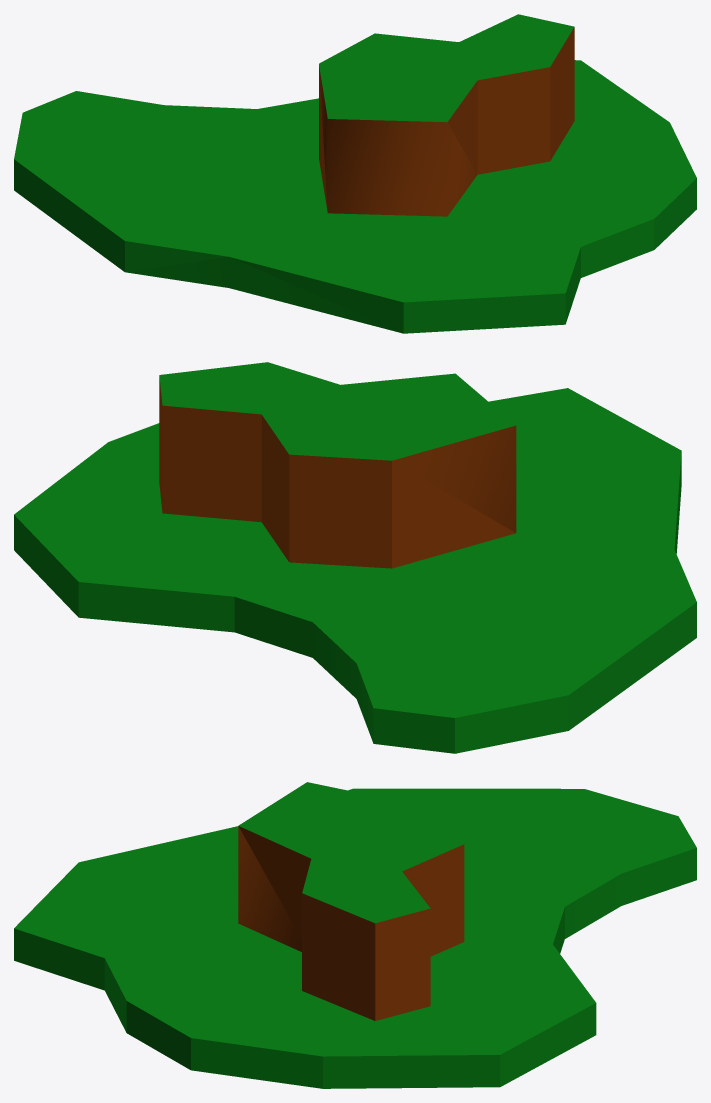
File: terrain.obj
3 views of the same model, one above another, from view 1: azimuth 30°, elevation 25°; view 2: azimuth 150°, elevation 25°; view 3: azimuth 270°, elevation 25° (orthographic). The views are drawn at different scales.
Parts seen in each view (by area): view 1: Cube.001; view 2: Cube.001; view 3: Cube.001.
Part boxes in pixels (x1,y1,x2,y2): Cube.001: [14, 14, 696, 333]; Cube.001: [14, 362, 696, 753]; Cube.001: [14, 782, 696, 1088].
Size of the model in its own units: 17.75 by 4.02 by 19.12.
